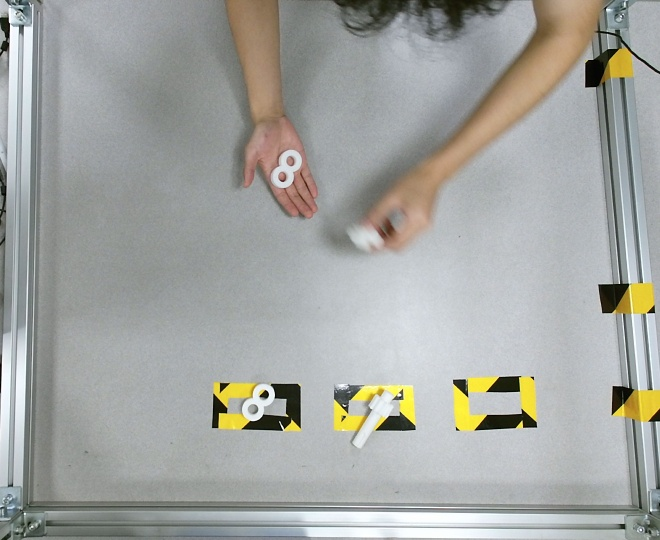stage_1: (269, 149, 302, 188)
